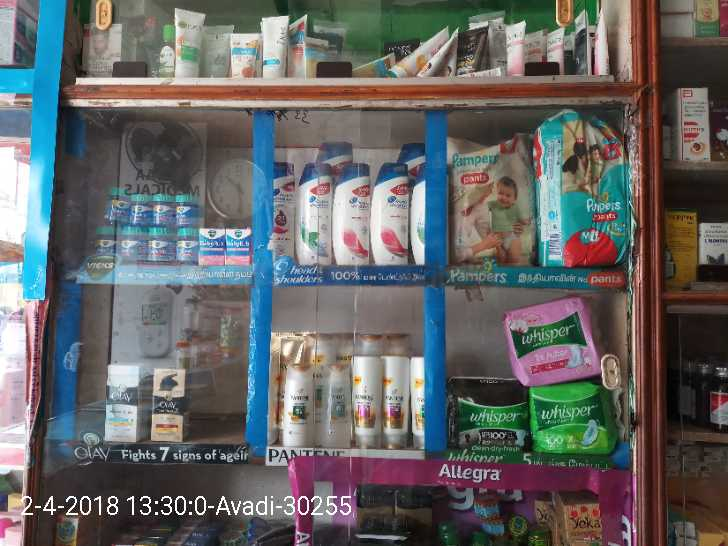vicks: (91, 180, 200, 264), (201, 226, 254, 264)
